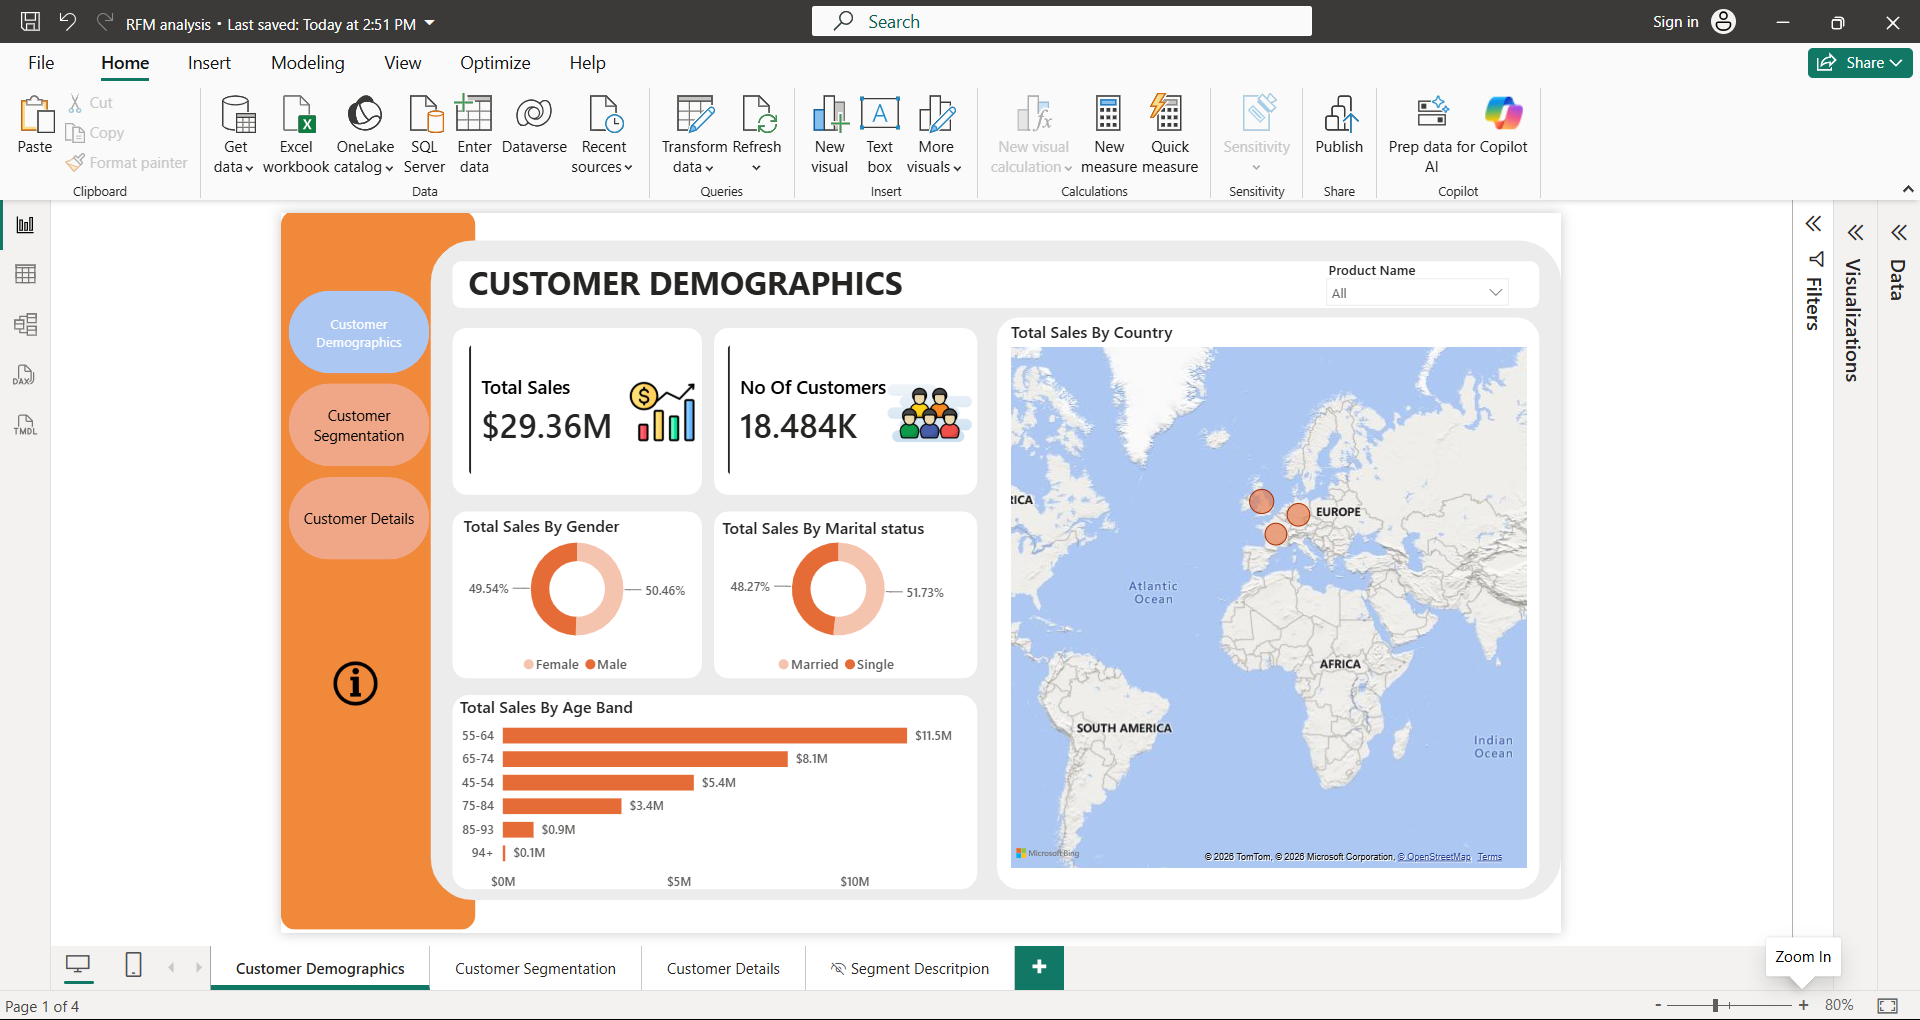

What the dashboard file says about the page in this screenshot:
{"tool":"powerbi","page":{"name":"Customer Demographics","canvas":[1280,720],"ordinal":0},"visuals":[{"type":"cardVisual","fields":{"Data":["Sum(FactInternetSales.SalesAmount)"]},"box":[171.5,115.3,237.4,164.7],"z":0},{"type":"image","box":[348.5,164.7,64.5,67.2],"z":1000},{"type":"cardVisual","fields":{"Data":["Count(FactInternetSales.CustomerKey)"]},"box":[429.5,115.3,237.4,164.7],"z":2000},{"type":"image","box":[606.5,153.7,85.1,93.3],"z":3000},{"type":"donutChart","title":"Total Sales","fields":{"Y":["Sum(FactInternetSales.SalesAmount)"],"Category":["DimCustomer.Gender"]},"box":[161.9,311.5,267.6,159.2],"z":4000},{"type":"textbox","box":[177,296.4,199,37],"z":5000},{"type":"donutChart","title":"Total Sales","fields":{"Y":["Sum(FactInternetSales.SalesAmount)"],"Category":["DimCustomer.MaritalStatus"]},"box":[424,311.5,267.6,159.2],"z":6000},{"type":"textbox","box":[436.4,299.1,222.3,37],"z":7000},{"type":"clusteredBarChart","fields":{"Category":["DimCustomer.Age group"],"Y":["Sum(FactInternetSales.SalesAmount)"]},"box":[175,492.5,516.2,195],"z":8000},{"type":"textbox","box":[173.8,477.5,198.8,37.5],"z":9000},{"type":"map","title":"Total Sales By Country","fields":{"Category":["DimGeography.Country"],"Size":["Sum(FactInternetSales.SalesAmount)"]},"box":[725,107.5,526.2,552.5],"z":10000},{"type":"textbox","box":[182.5,42.5,542.5,52.5],"z":11000},{"type":"slicer","fields":{"Values":["DimProduct.Product Name"]},"box":[1035,55,202.5,45],"z":12000},{"type":"textbox","box":[1042.5,42.5,177.5,28.8],"z":13000},{"type":"pageNavigator","box":[7.1,77.1,141.4,271.4],"z":13001},{"type":"image","box":[52.9,432.9,44.3,75.7],"z":13002}]}

Visuals, with their boxes on the page's 1280x720 design canvas (x1, y1, x2, y2). These are canvas units, not pixel positions in the 1920x1020 screenshot, which may show the page scaled, cropped or inside an application window:
cardVisual - Sum(FactInternetSales.SalesAmount): bbox=(172, 115, 409, 280)
image: bbox=(348, 165, 413, 232)
cardVisual - Count(FactInternetSales.CustomerKey): bbox=(430, 115, 667, 280)
image: bbox=(606, 154, 692, 247)
"Total Sales" donutChart: bbox=(162, 312, 430, 471)
textbox: bbox=(177, 296, 376, 333)
"Total Sales" donutChart: bbox=(424, 312, 692, 471)
textbox: bbox=(436, 299, 659, 336)
clusteredBarChart - DimCustomer.Age group x Sum(FactInternetSales.SalesAmount): bbox=(175, 492, 691, 688)
textbox: bbox=(174, 478, 373, 515)
"Total Sales By Country" map: bbox=(725, 108, 1251, 660)
textbox: bbox=(182, 42, 725, 95)
slicer - DimProduct.Product Name: bbox=(1035, 55, 1238, 100)
textbox: bbox=(1042, 42, 1220, 71)
pageNavigator: bbox=(7, 77, 148, 348)
image: bbox=(53, 433, 97, 509)
